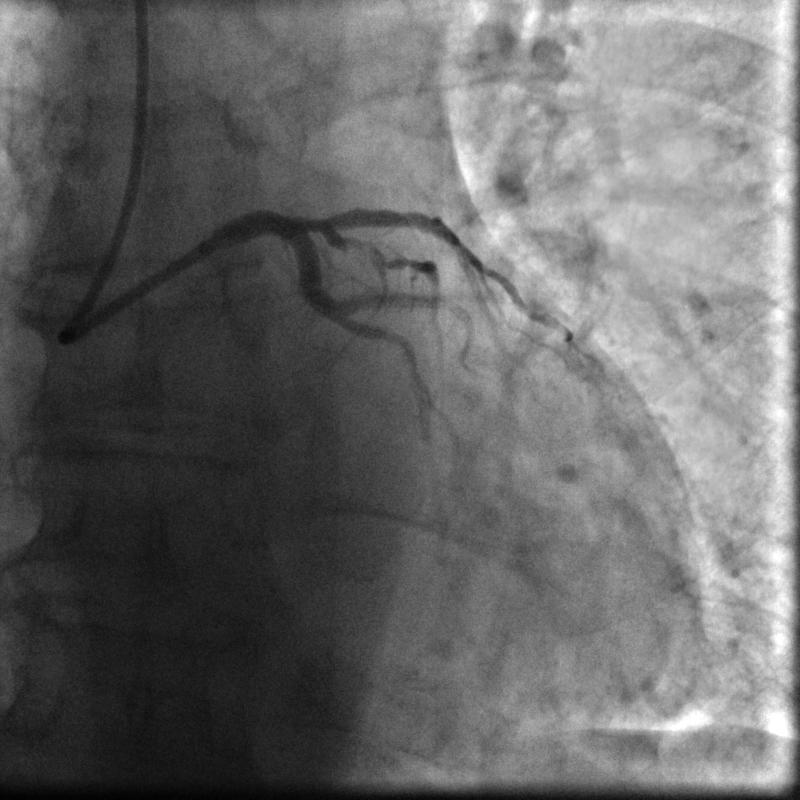Stenosis: (337, 230, 390, 268)
